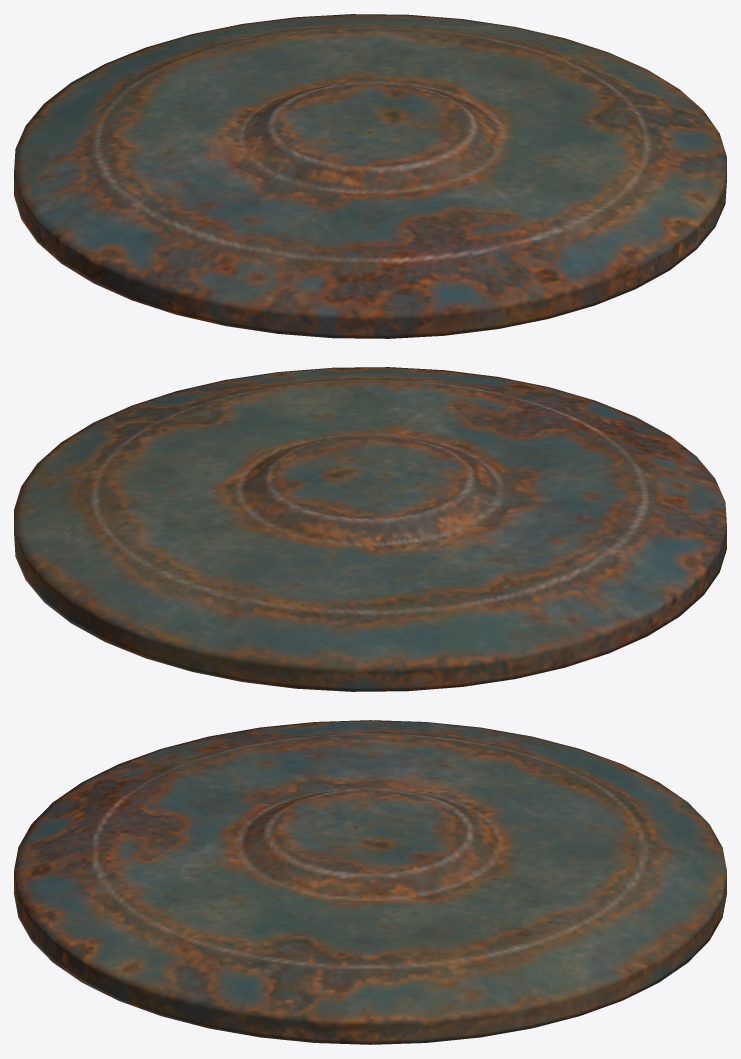
File: Disk.FBX
The picture shows the model from 3 angles, top to bottom: view 1: azimuth 30°, elevation 25°; view 2: azimuth 150°, elevation 25°; view 3: azimuth 270°, elevation 25°; orthographic projection.
Parts seen in each view (by area): view 1: Disk; view 2: Disk; view 3: Disk.
Part boxes in pixels (x1,y1,x2,y2): Disk: (14, 14, 726, 338); Disk: (14, 367, 726, 691); Disk: (14, 720, 726, 1044).
Size of the model in its own units: 38.68 by 38.68 by 3.76.
